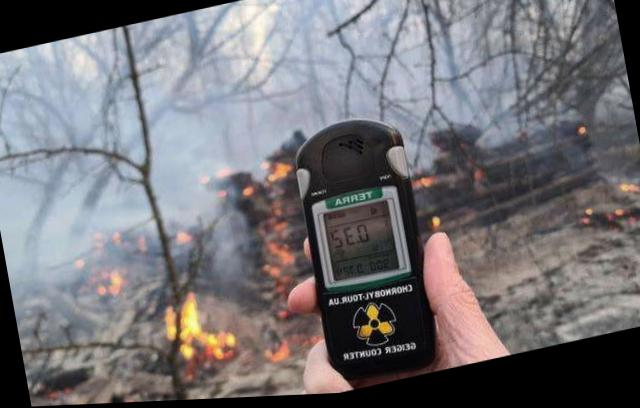fire: (230, 155, 324, 371), (156, 282, 238, 381)
